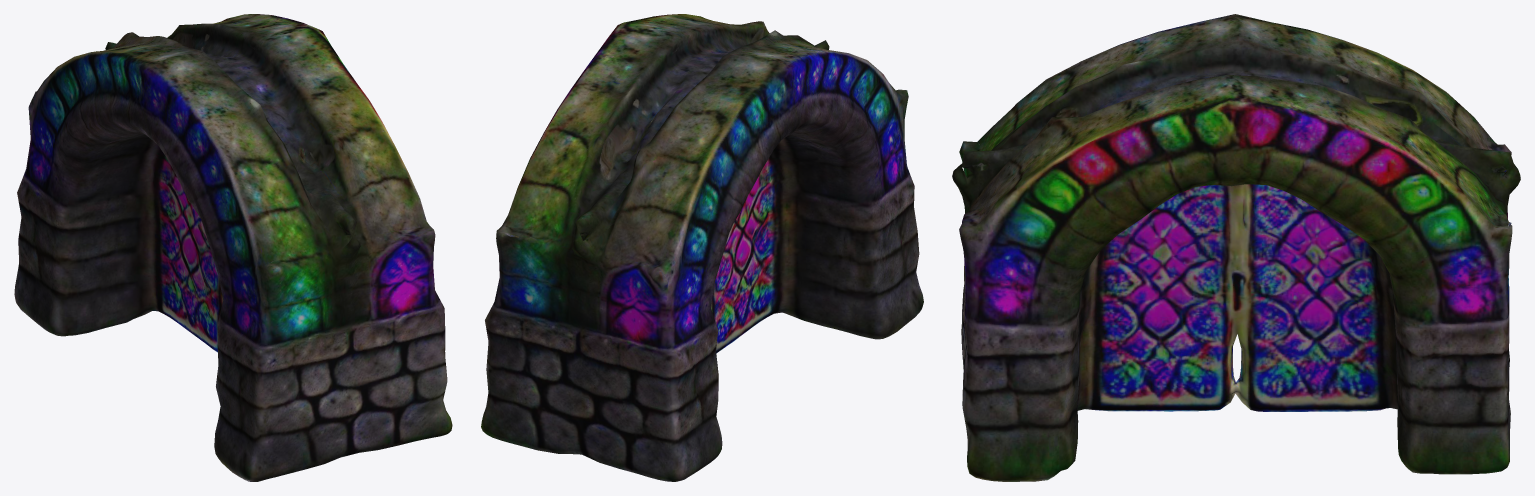
The model's file is a6202f409b49_imagine_a_gate_for_.fbx.
3 renders of one model, left to right at view 1: azimuth 30°, elevation 25°; view 2: azimuth 150°, elevation 25°; view 3: azimuth 270°, elevation 25°, orthographic. The views are drawn at different scales.
Visible parts, largest first — view 1: mesh; view 2: mesh; view 3: mesh.
Boxes of the visible parts, x1=… form: mesh: x1=14, y1=14, x2=452, y2=481; mesh: x1=481, y1=14, x2=923, y2=481; mesh: x1=952, y1=14, x2=1520, y2=481.
Bounding box in the file's own units: 46.75 × 72.59 × 99.5.
